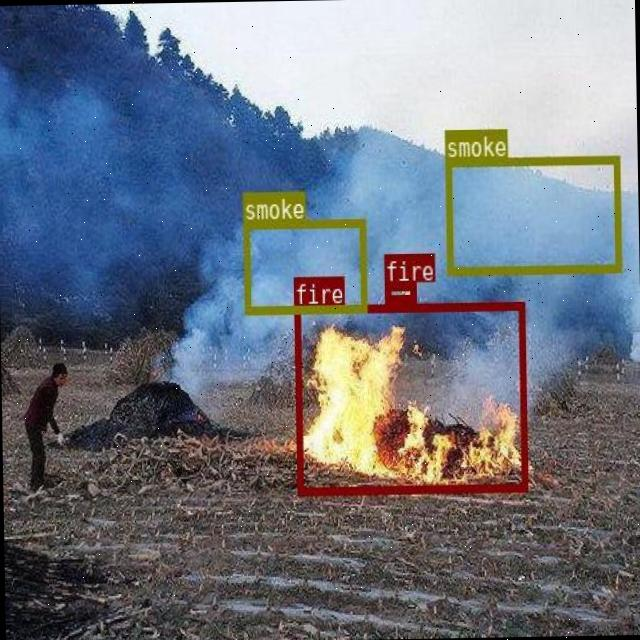fire: (293, 300, 526, 492), (384, 280, 414, 302)
smoke: (444, 154, 619, 274), (242, 218, 366, 312)
